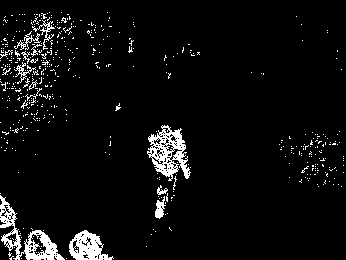person: (148, 123, 191, 220)
